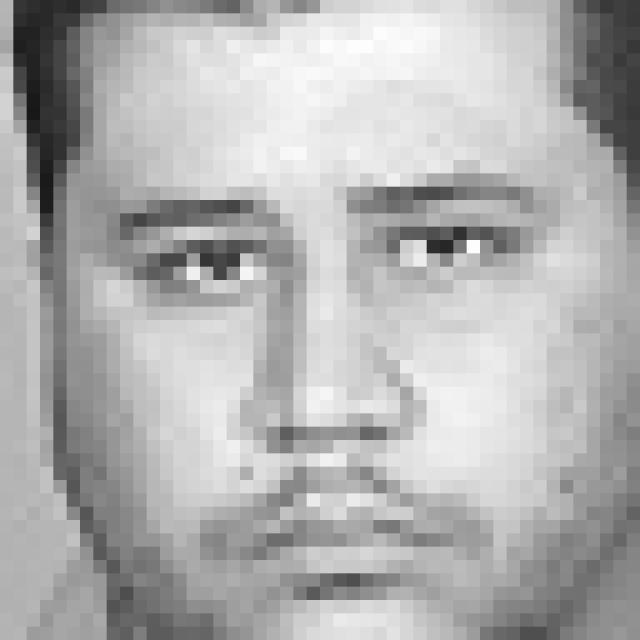neutral: (97, 171, 558, 603)
